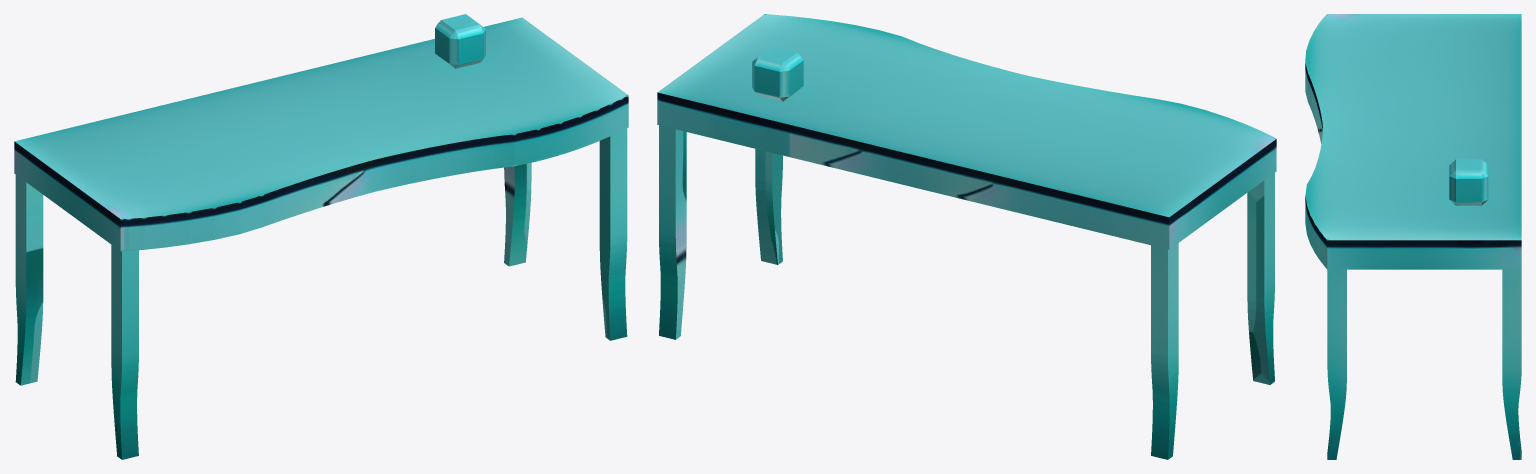
File: edited_mesh.glb
The picture shows the model from 3 angles, left to right: view 1: azimuth 30°, elevation 25°; view 2: azimuth 150°, elevation 25°; view 3: azimuth 270°, elevation 25°; orthographic projection. The views are drawn at different scales.
Parts seen in each view (by area): view 1: solid_001_wire; view 2: solid_001_wire; view 3: solid_001_wire.
Part boxes in pixels (<box>): solid_001_wire: <box>14,14,628,459</box>; solid_001_wire: <box>657,14,1276,459</box>; solid_001_wire: <box>1305,14,1521,459</box>.
Bounding box in the file's own units: 1.95 × 1.03 × 0.7881.
Materials: 1 (1 with a texture image).
